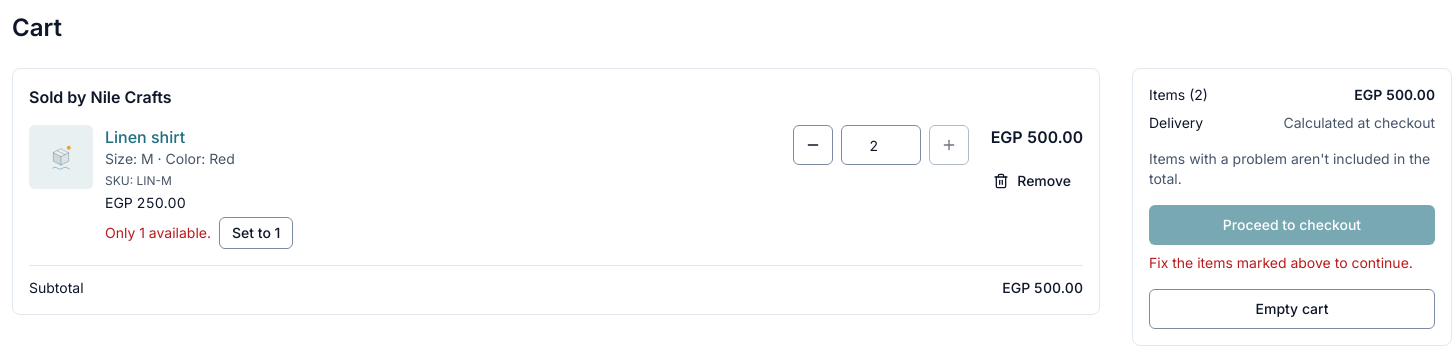
Test: cart page (spec 01 SF-06) › "Set to {available}" sends the available quantity and shows the returned cart
Click the button "Set to 1".
click(256, 233)  # box [219, 217, 293, 249]
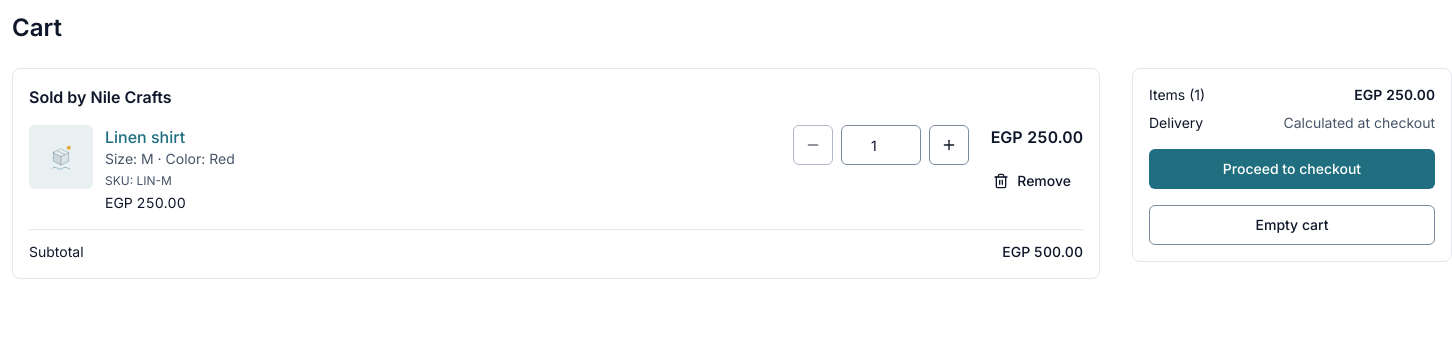
Check: the text "Items (1)" is shown, box [1149, 85, 1205, 105]
